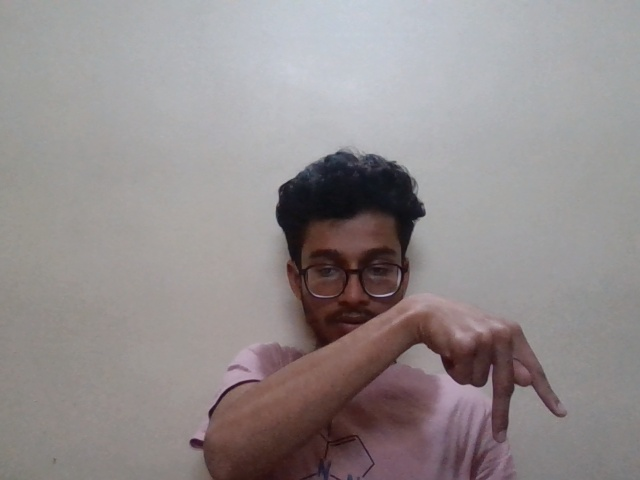P: (414, 279, 575, 444)
